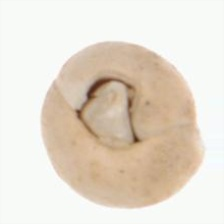L3: (71, 75, 149, 146)
L4: (41, 41, 205, 209)
